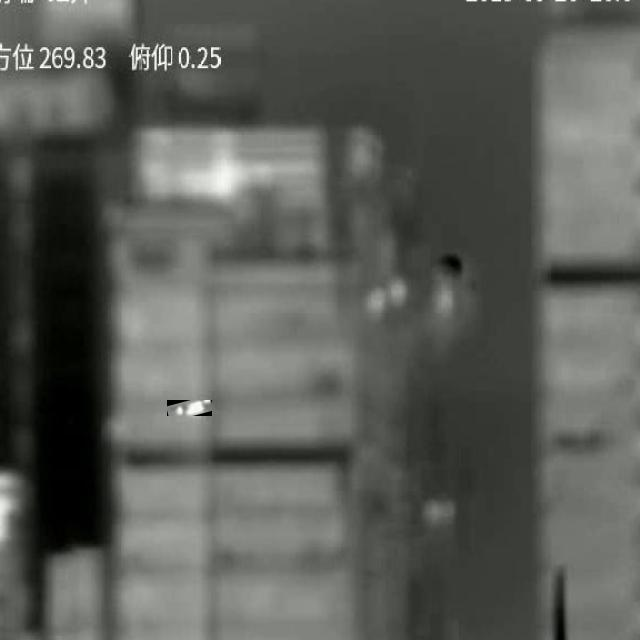drone: (167, 400, 211, 416)
